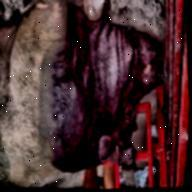boar: (0, 18, 172, 175)
